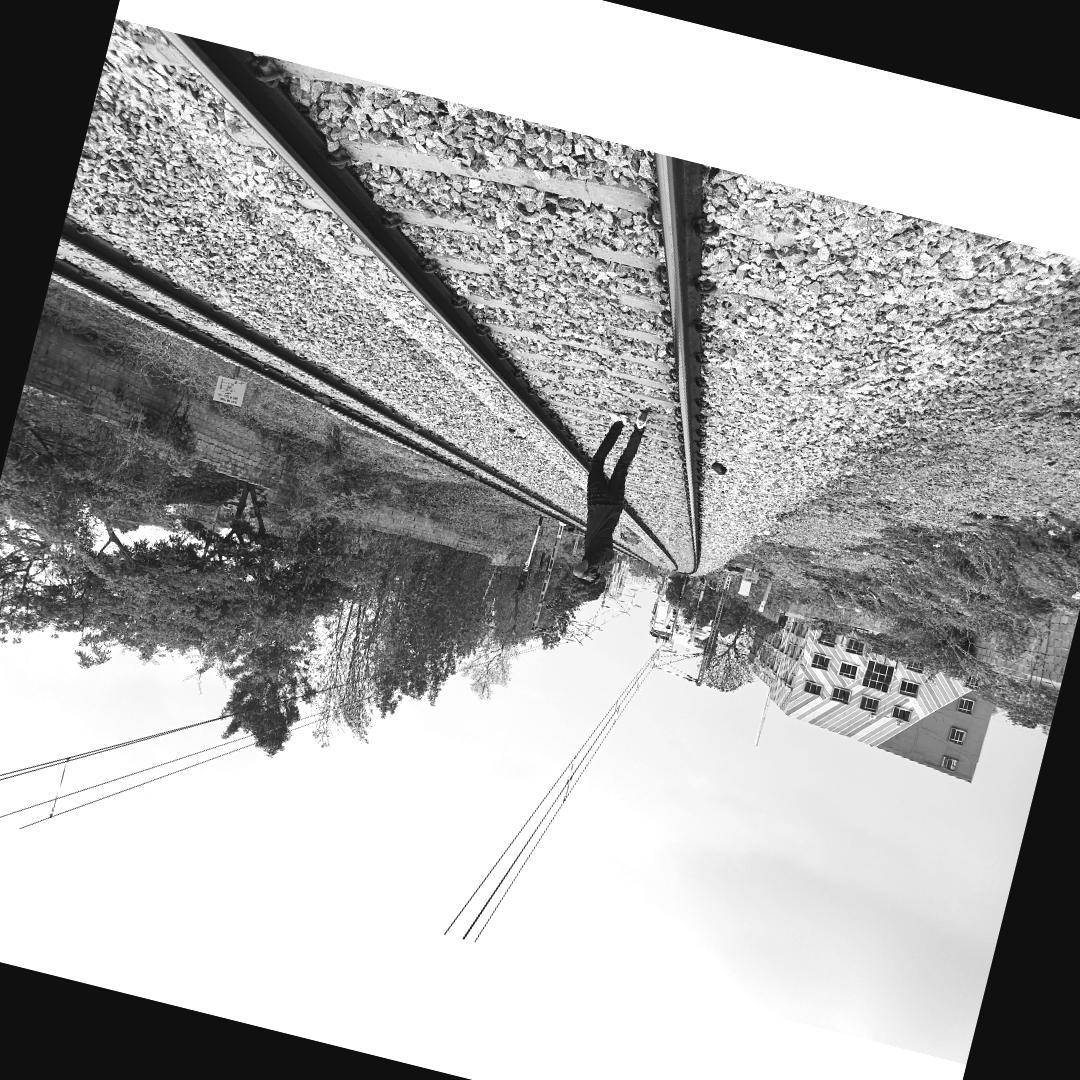standing: (559, 400, 652, 589)
track: (113, 17, 724, 586)
